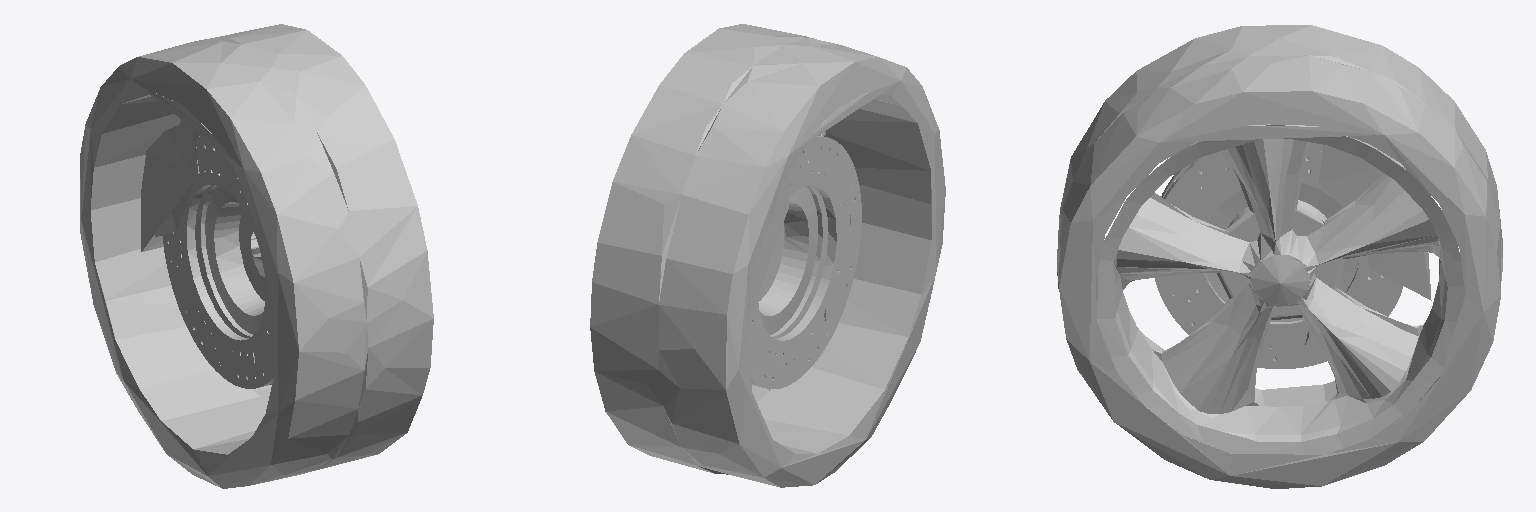
Rendered from mustang-wheel.obj.
The picture shows the model from 3 angles: view 1: azimuth 30°, elevation 25°; view 2: azimuth 150°, elevation 25°; view 3: azimuth 270°, elevation 25°; orthographic projection.
Visible parts, largest first — view 1: mustang_wheel_json; view 2: mustang_wheel_json; view 3: mustang_wheel_json.
Part boxes in pixels (x1,y1,x2,y2): mustang_wheel_json: (80,24,433,488); mustang_wheel_json: (590,24,945,487); mustang_wheel_json: (1057,25,1502,488).
Size of the model in its own units: 0.5503 by 1.45 by 1.46.